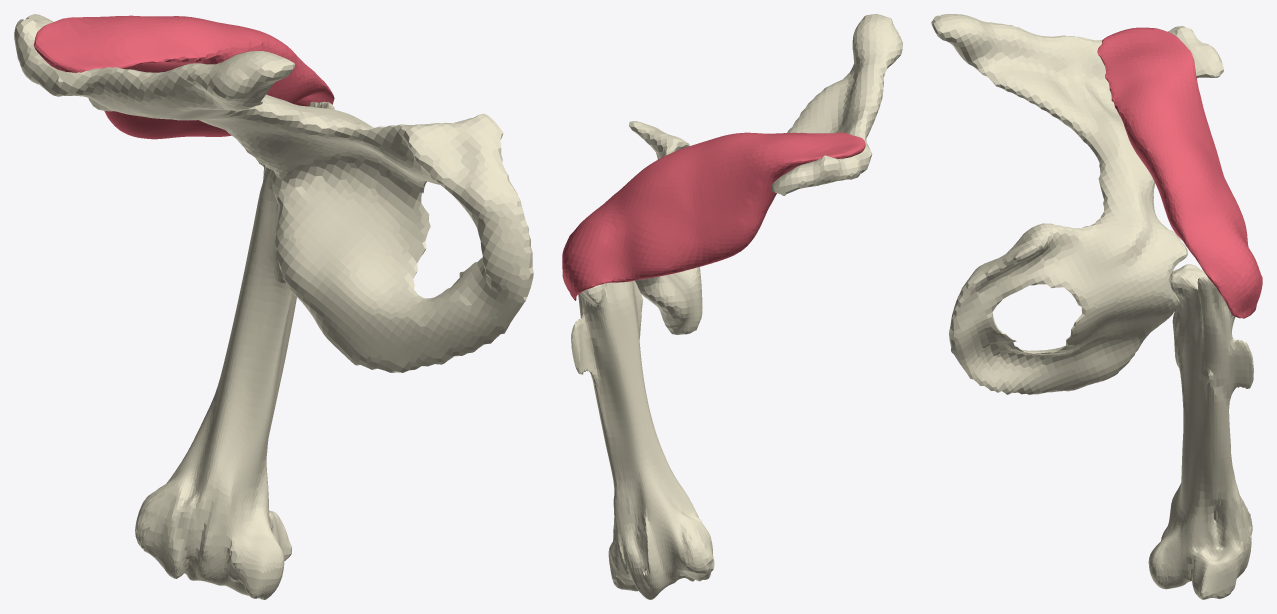
Rendered from model.glb.glb.
3 renders of one model, left to right at view 1: azimuth 30°, elevation 25°; view 2: azimuth 150°, elevation 25°; view 3: azimuth 270°, elevation 25°, orthographic. The views are drawn at different scales.
Parts seen in each view (by area): view 1: Pelvis, Femur, Gluteus Medius; view 2: Gluteus Medius, Femur, Pelvis; view 3: Pelvis, Femur, Gluteus Medius.
Boxes of the visible parts, x1,y1,x2,y2 form: Pelvis: (14,14,533,372); Femur: (135,101,334,599); Gluteus Medius: (33,15,334,139); Gluteus Medius: (562,132,865,300); Femur: (571,280,714,599); Pelvis: (629,14,902,334); Pelvis: (931,14,1223,394); Femur: (1148,264,1253,599); Gluteus Medius: (1097,27,1262,318).
Size of the model in its own units: 2.33 by 3.87 by 2.24.
